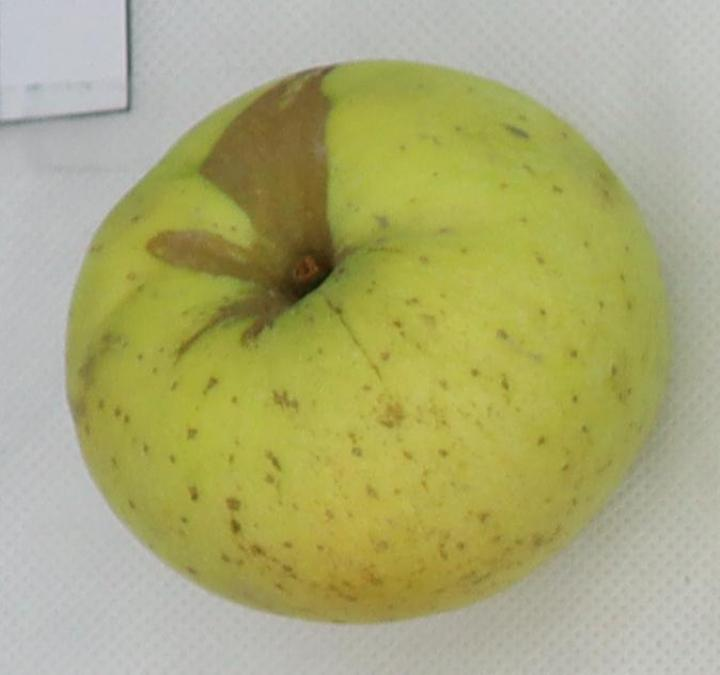apple: (66, 61, 668, 621)
bruise_discoloration: (146, 66, 334, 359)
